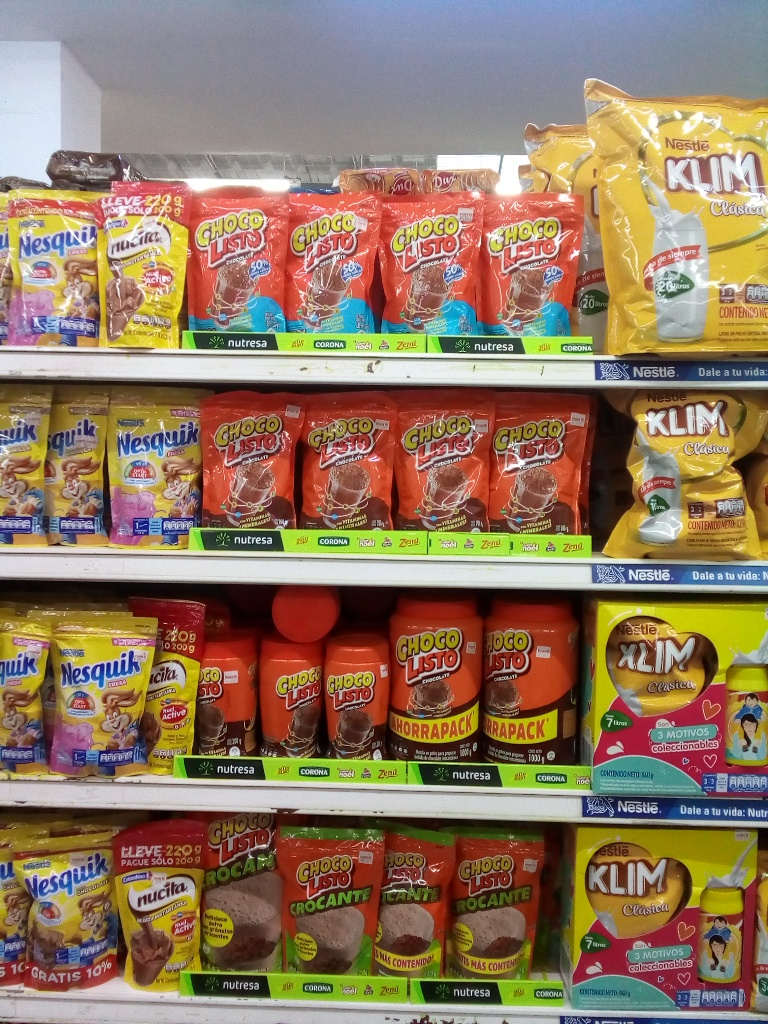COL0170102DYP25000: (278, 824, 381, 977)
COL0170102DYP50000: (182, 808, 287, 972)
COL0170103TRR00100: (387, 599, 489, 760)
COL0170103TRR30000: (206, 632, 255, 757)
COL0170104DYP20000: (189, 185, 285, 332)
COL0170306DYP20000: (1, 387, 52, 545)
